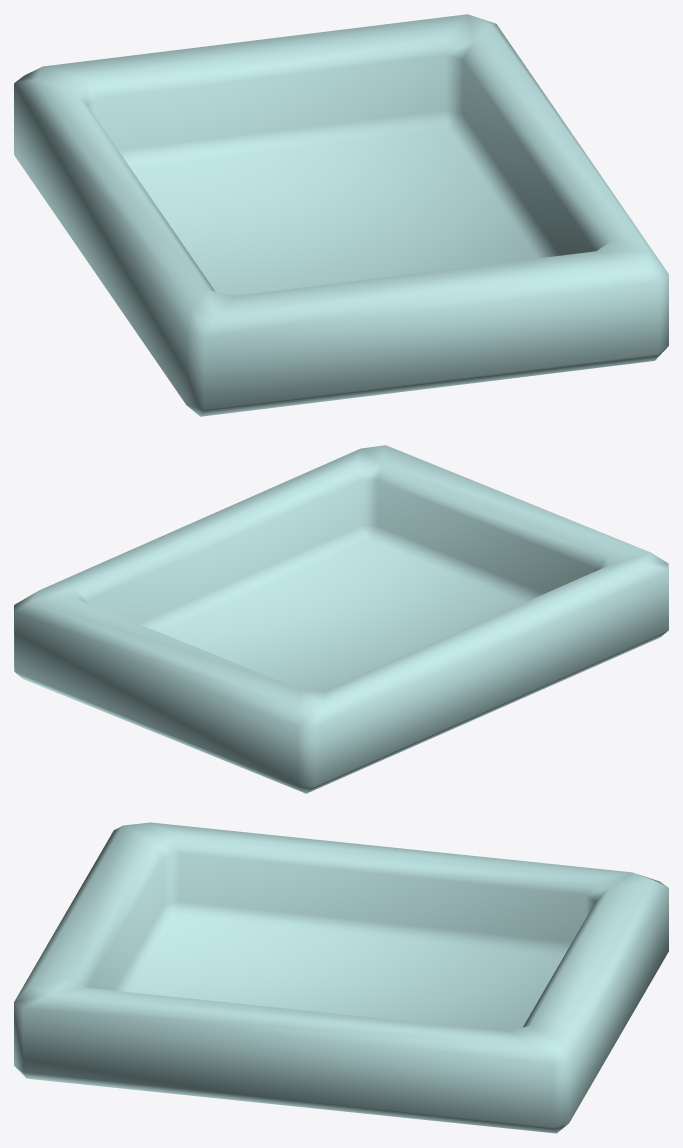
The model's file is Soap_Dish.fbx.
3 views of the same model, one above another, from view 1: azimuth 30°, elevation 25°; view 2: azimuth 150°, elevation 25°; view 3: azimuth 270°, elevation 25° (orthographic). The views are drawn at different scales.
Parts seen in each view (by area): view 1: Soap_dish; view 2: Soap_dish; view 3: Soap_dish.
Boxes of the visible parts, x1,y1,x2,y2 form: Soap_dish: (14,14,668,416); Soap_dish: (14,445,668,793); Soap_dish: (14,822,668,1133).
Size of the model in its own units: 25.27 by 4.31 by 29.46.
